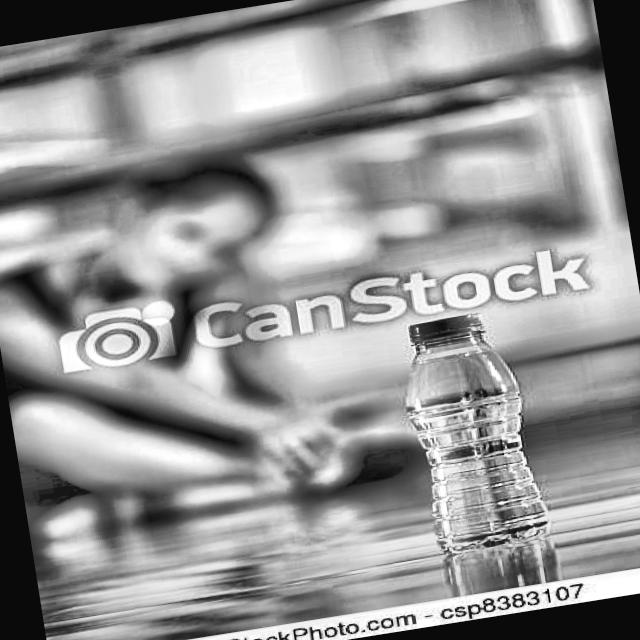waterbottle: (376, 295, 570, 570)
